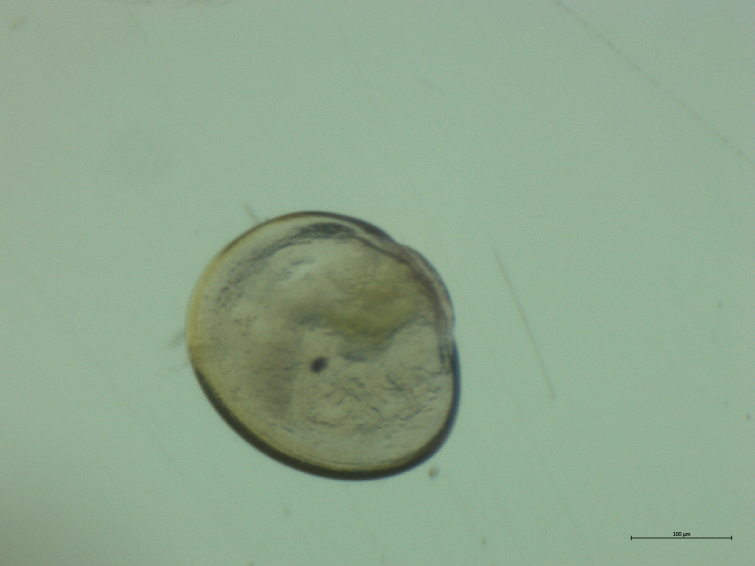oyster: (173, 206, 474, 493)
